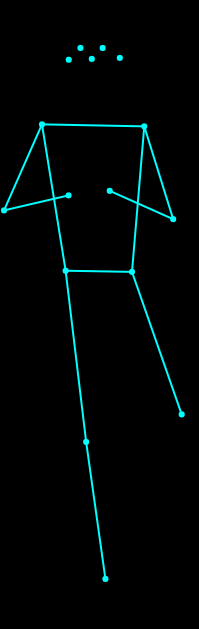tree: (1, 29, 199, 587)
